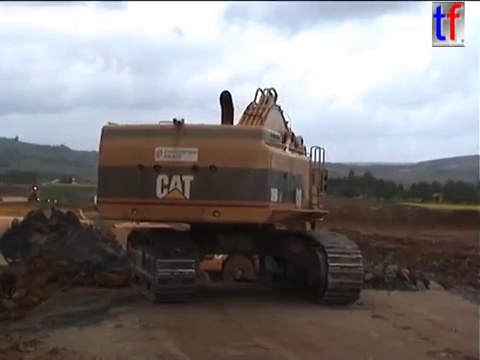excavator: (91, 84, 368, 308)
truck: (1, 206, 160, 333), (196, 221, 328, 289), (104, 218, 195, 299)
